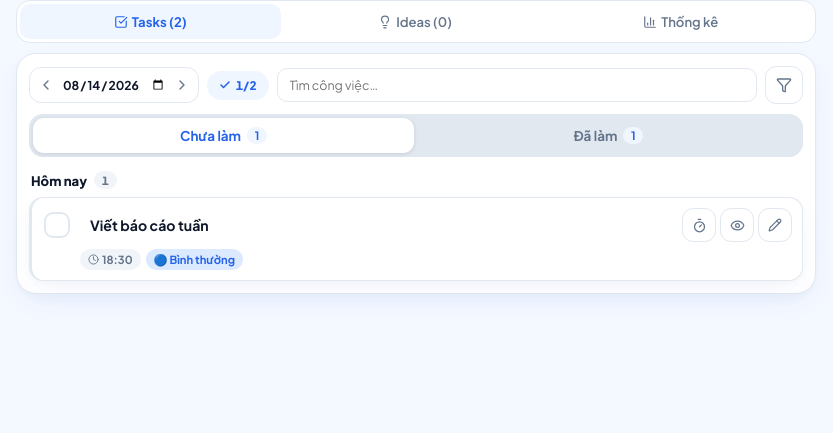
Scenario: TasksPage layout › keeps the filter controls behind the filter button
Click the button named "Lọc và sắp xếp" at {"x": 784, "y": 85}, box [765, 66, 803, 104]
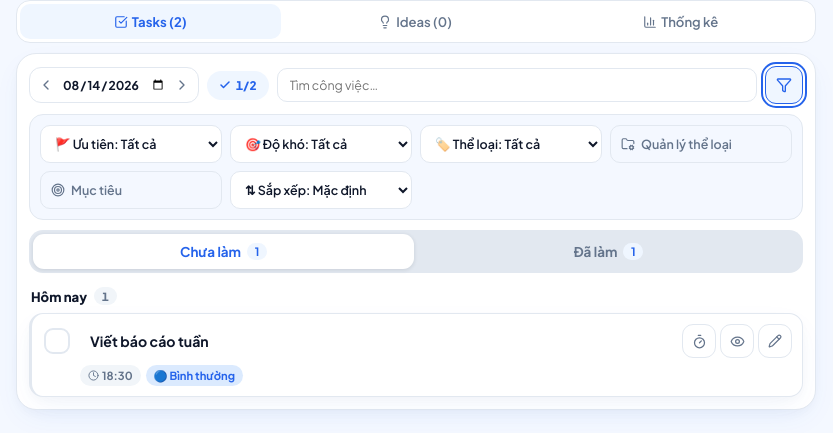
Expected: the dropdown named "Lọc theo ưu tiên" is shown, [40, 125, 222, 163]
Expected: the dropdown named "Lọc theo độ khó" is shown, [230, 125, 412, 163]
Expected: the dropdown named "Sắp xếp" is shown, [230, 171, 412, 209]
